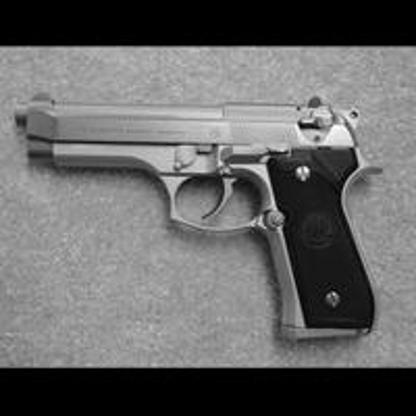weapon: (7, 87, 385, 349)
